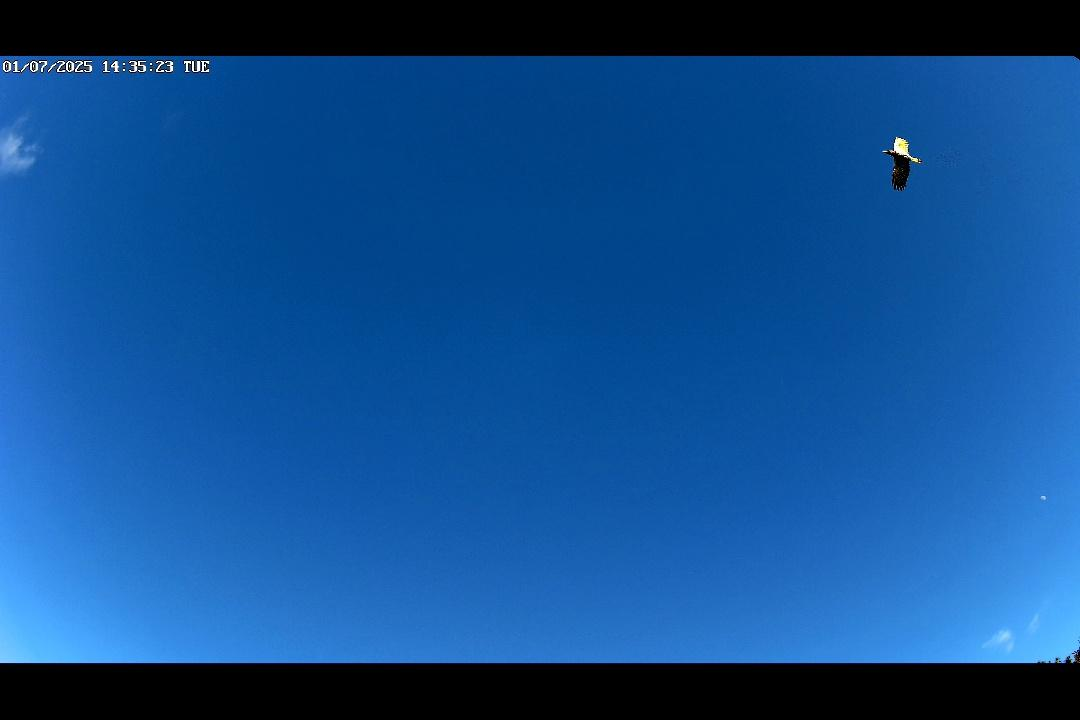WildLife: (856, 104, 952, 213)
